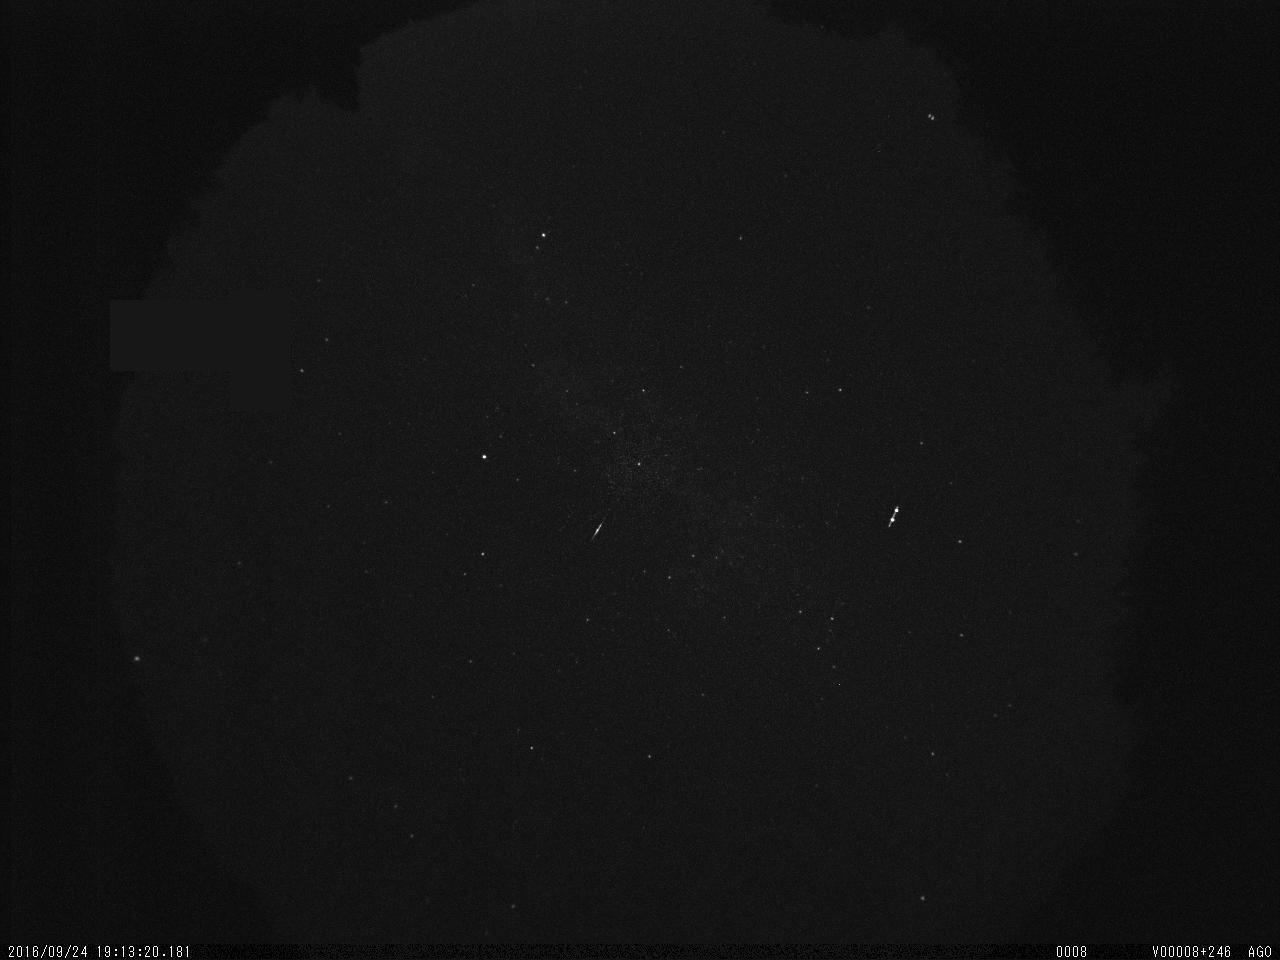Meteor: (590, 516, 606, 540)
